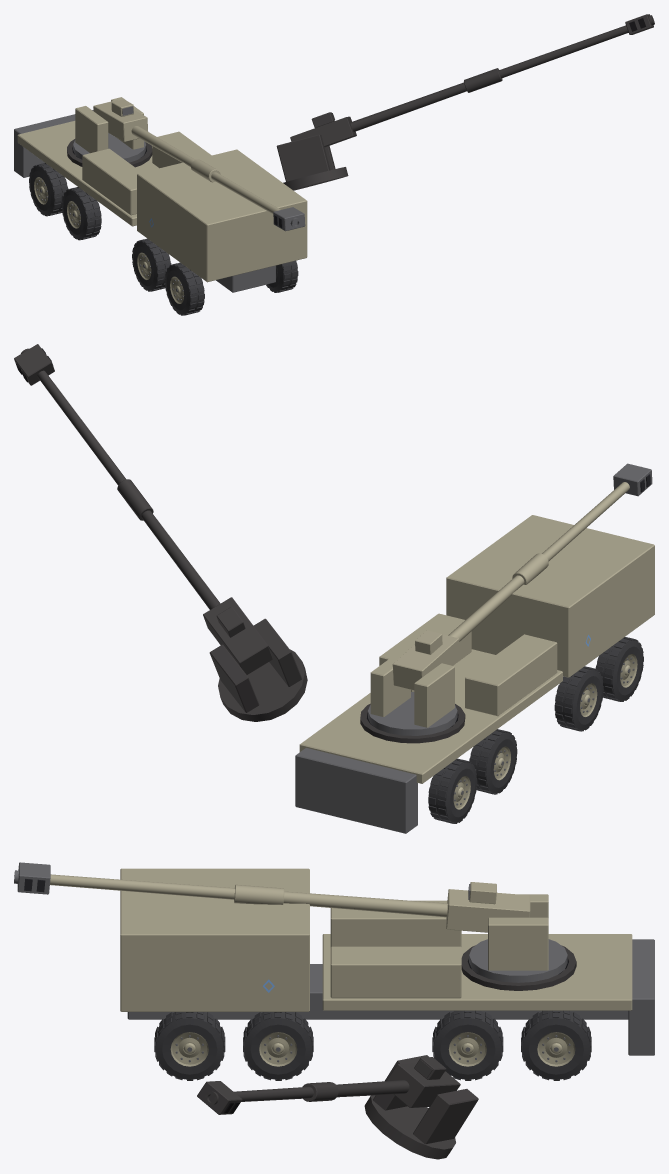
File: wheeledHowitzer__type_19_howitzer.glb
The picture shows the model from 3 angles, top to bottom: view 1: azimuth 30°, elevation 25°; view 2: azimuth 150°, elevation 25°; view 3: azimuth 270°, elevation 25°; orthographic projection. The views are drawn at different scales.
Visible parts, largest first — view 1: Hull_Mesh, Wreck, Gun_Mesh, Turret_Mesh, Wheel_L1_Mesh, Wheel_L3_Mesh, Wheel_L0_Mesh, Wheel_L2_Mesh, Wheel_R3_Mesh; view 2: Hull_Mesh, Wreck, Gun_Mesh, Turret_Mesh, Wheel_L0_Mesh, Wheel_L2_Mesh, Wheel_L1_Mesh, Wheel_L3_Mesh; view 3: Hull_Mesh, Wreck, Gun_Mesh, Turret_Mesh, Wheel_R0_Mesh, Wheel_R1_Mesh, Wheel_R3_Mesh, Wheel_R2_Mesh.
Boxes of the visible parts, left/top/right/bottom form: Hull_Mesh: left=14, top=109, right=307, bottom=292; Wreck: left=43, top=14, right=654, bottom=314; Gun_Mesh: left=93, top=99, right=305, bottom=231; Turret_Mesh: left=73, top=97, right=146, bottom=162; Wheel_L1_Mesh: left=61, top=187, right=101, bottom=240; Wheel_L3_Mesh: left=165, top=262, right=204, bottom=315; Wheel_L0_Mesh: left=29, top=163, right=68, bottom=215; Wheel_L2_Mesh: left=132, top=238, right=171, bottom=291; Wheel_R3_Mesh: left=266, top=260, right=298, bottom=292; Hull_Mesh: left=295, top=515, right=654, bottom=833; Wreck: left=14, top=344, right=638, bottom=791; Gun_Mesh: left=392, top=463, right=652, bottom=690; Turret_Mesh: left=368, top=652, right=457, bottom=735; Wheel_L0_Mesh: left=428, top=758, right=477, bottom=823; Wheel_L2_Mesh: left=554, top=666, right=603, bottom=731; Wheel_L1_Mesh: left=469, top=729, right=517, bottom=794; Wheel_L3_Mesh: left=595, top=637, right=643, bottom=701; Hull_Mesh: left=120, top=868, right=654, bottom=1055; Wreck: left=187, top=945, right=576, bottom=1159; Gun_Mesh: left=14, top=862, right=530, bottom=932; Turret_Mesh: left=469, top=894, right=567, bottom=982; Wheel_R0_Mesh: left=521, top=1010, right=591, bottom=1080; Wheel_R1_Mesh: left=432, top=1010, right=503, bottom=1080; Wheel_R3_Mesh: left=154, top=1012, right=225, bottom=1080; Wheel_R2_Mesh: left=243, top=1012, right=313, bottom=1080.
Size of what is drawn, in the model's own units: 12.03 by 4.21 by 10.14.
